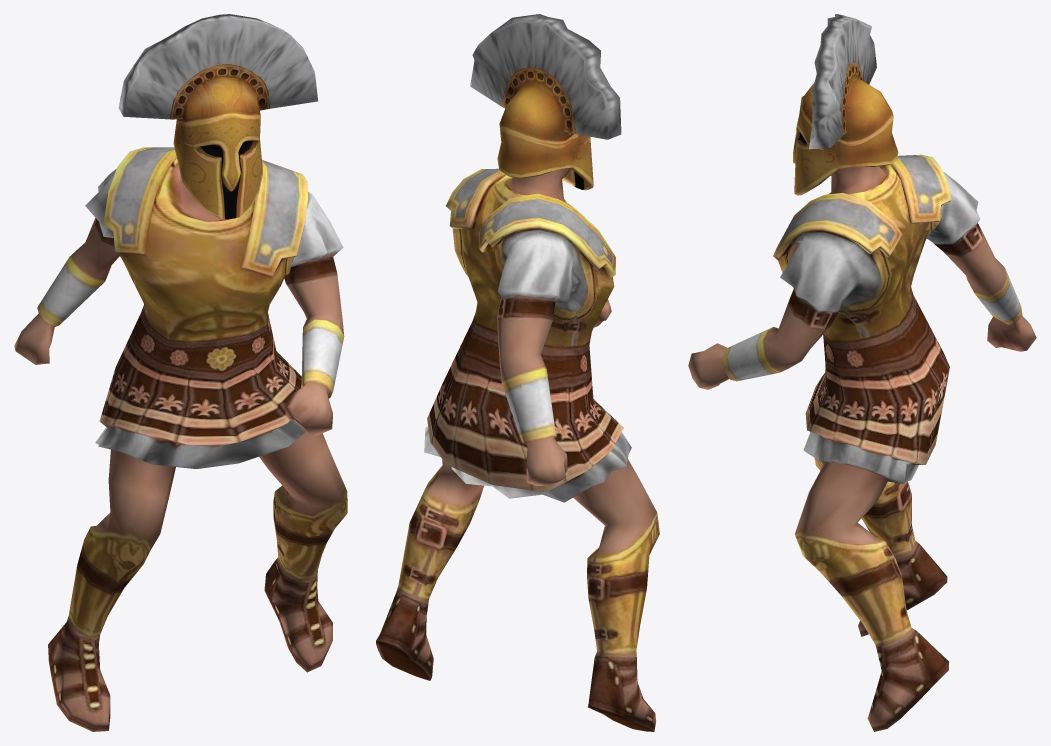
The model's file is rider-slice-base.glb.
3 views of the same model, side by side, from view 1: azimuth 30°, elevation 25°; view 2: azimuth 150°, elevation 25°; view 3: azimuth 270°, elevation 25° (orthographic). The views are drawn at different scales.
Size of the model in its own units: 0.9364 by 2.29 by 1.09.
Materials: 2 (2 with a texture image).
